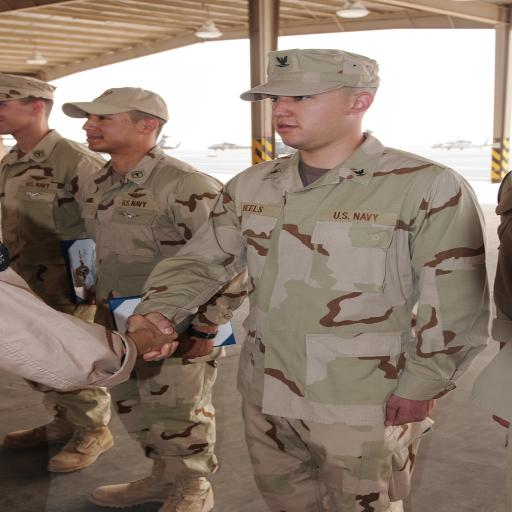Person: (230, 41, 424, 508), (130, 88, 243, 512), (41, 49, 148, 309)
no_boots: (115, 427, 161, 477), (144, 459, 190, 509), (188, 464, 234, 512), (87, 416, 129, 455)
no_gloves: (165, 316, 211, 365), (333, 389, 379, 437)
no_goggle: (68, 100, 119, 114), (130, 112, 180, 126), (254, 94, 305, 107)
no_helmet: (241, 46, 344, 101), (53, 54, 155, 108), (128, 66, 230, 120)
none: (241, 155, 410, 426), (132, 168, 242, 309), (85, 144, 149, 292)
